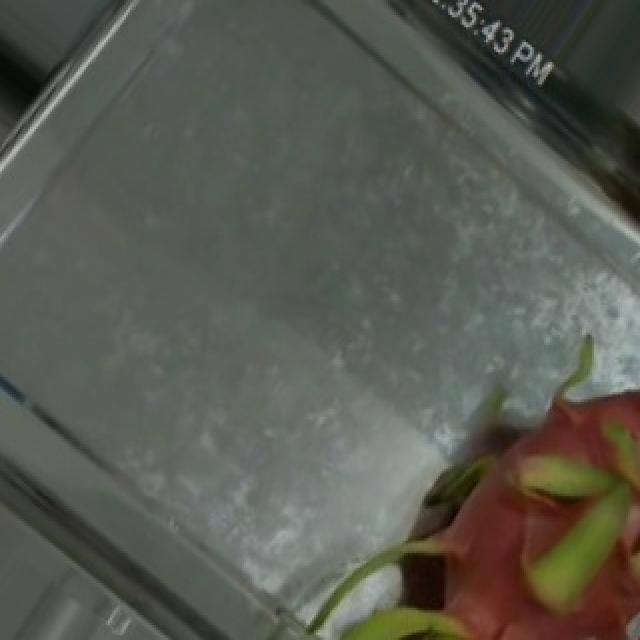fruit: (250, 297, 638, 640)
